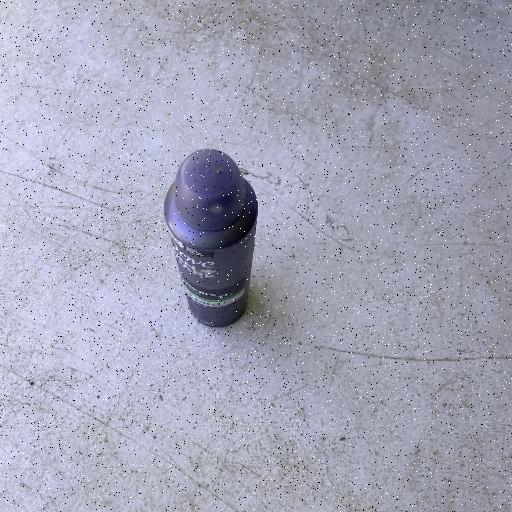Metal: (162, 146, 260, 328)
